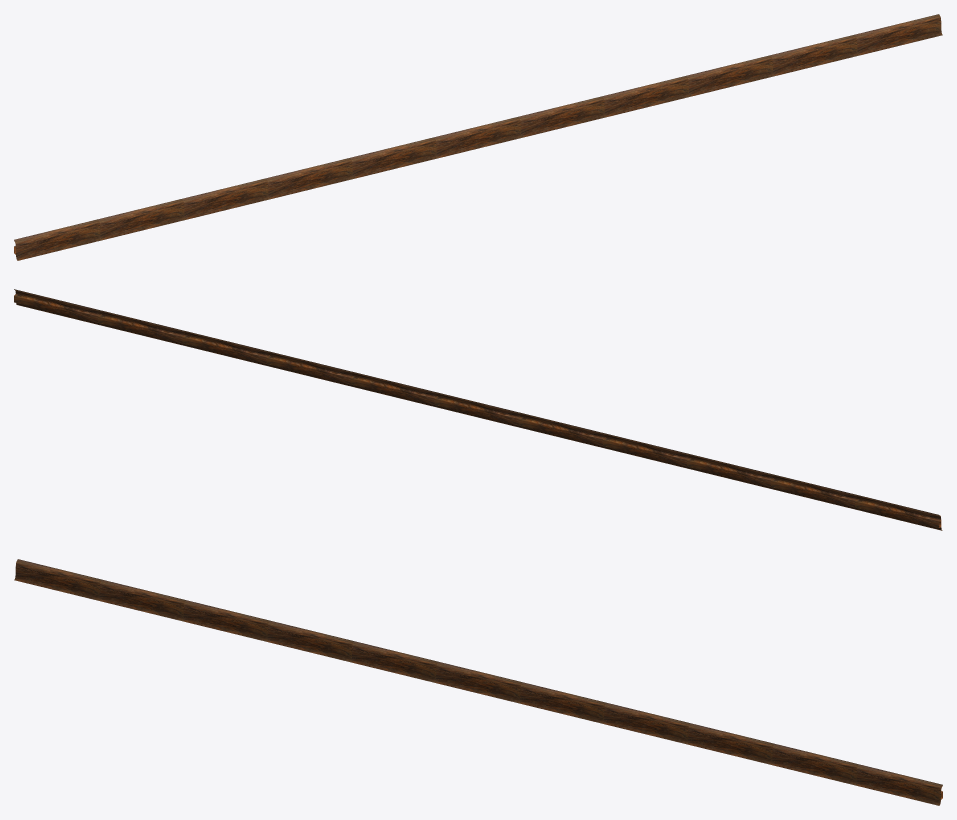
The model's file is baseboard_small.glb.
The picture shows the model from 3 angles, top to bottom: view 1: azimuth 30°, elevation 25°; view 2: azimuth 150°, elevation 25°; view 3: azimuth 330°, elevation 25°; orthographic projection.
Parts seen in each view (by area): view 1: Object01, Object01.004, Object01.005, Object01.003, Object01.008, Object01.010, Object01.007, Object01.002, Object01.006, Object01.009, Object01.001; view 2: Object01, Object01.006, Object01.004, Object01.008, Object01.010, Object01.009, Object01.005, Object01.007, Object01.003, Object01.001, Object01.002; view 3: Object01.010, Object01.008, Object01.005, Object01.002, Object01.007, Object01.009, Object01, Object01.004, Object01.001, Object01.003, Object01.006.
Part boxes in pixels (x1=…): Object01: x1=14, y1=219, x2=101, y2=260; Object01.004: x1=350, y1=137, x2=437, y2=178; Object01.005: x1=434, y1=116, x2=522, y2=158; Object01.003: x1=266, y1=158, x2=353, y2=199; Object01.008: x1=687, y1=55, x2=774, y2=96; Object01.010: x1=855, y1=14, x2=942, y2=55; Object01.007: x1=602, y1=75, x2=690, y2=116; Object01.002: x1=182, y1=178, x2=269, y2=219; Object01.006: x1=519, y1=96, x2=606, y2=137; Object01.009: x1=771, y1=34, x2=858, y2=75; Object01.001: x1=98, y1=199, x2=185, y2=240; Object01: x1=855, y1=494, x2=942, y2=530; Object01.006: x1=350, y1=371, x2=436, y2=407; Object01.004: x1=518, y1=412, x2=605, y2=448; Object01.008: x1=182, y1=330, x2=268, y2=366; Object01.010: x1=14, y1=289, x2=100, y2=325; Object01.009: x1=98, y1=310, x2=184, y2=345; Object01.005: x1=434, y1=392, x2=520, y2=427; Object01.007: x1=266, y1=351, x2=352, y2=386; Object01.003: x1=603, y1=433, x2=689, y2=468; Object01.001: x1=771, y1=474, x2=857, y2=509; Object01.002: x1=687, y1=453, x2=773, y2=489; Object01.010: x1=855, y1=764, x2=942, y2=805; Object01.008: x1=687, y1=723, x2=774, y2=764; Object01.005: x1=434, y1=661, x2=522, y2=703; Object01.002: x1=182, y1=600, x2=269, y2=641; Object01.007: x1=603, y1=702, x2=690, y2=744; Object01.009: x1=771, y1=744, x2=858, y2=785; Object01: x1=14, y1=559, x2=101, y2=600; Object01.004: x1=350, y1=641, x2=437, y2=682; Object01.001: x1=98, y1=579, x2=185, y2=620; Object01.003: x1=266, y1=620, x2=353, y2=661; Object01.006: x1=519, y1=682, x2=606, y2=723.
Bounding box in the file's own units: 13.58 × 0.2578 × 0.0966.
Materials: 2 (1 with a texture image).
